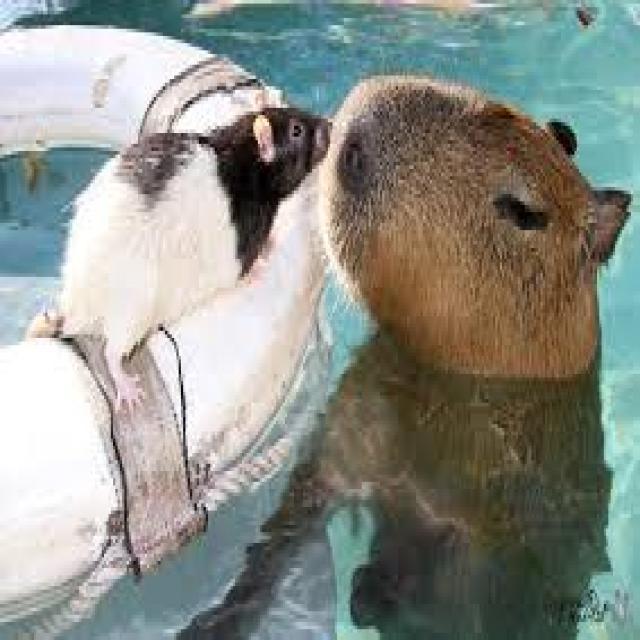capy: (322, 66, 632, 406)
